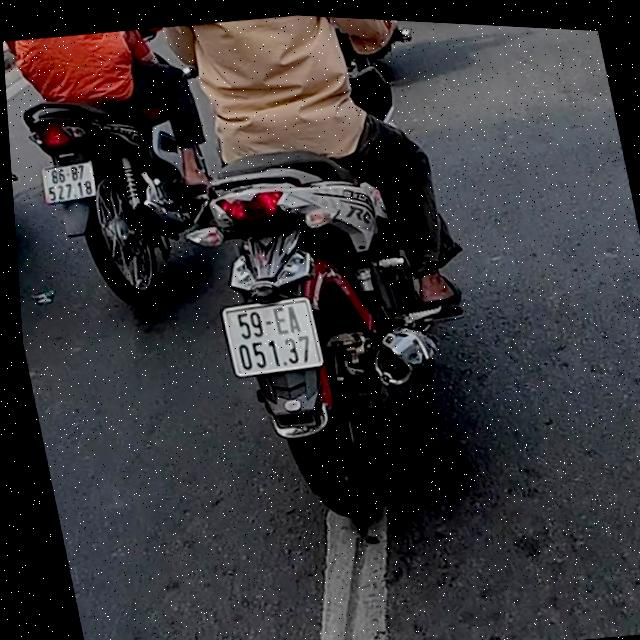motorcycle: (184, 131, 478, 546), (6, 70, 229, 322)
plate: (219, 291, 330, 385), (32, 152, 108, 215)
